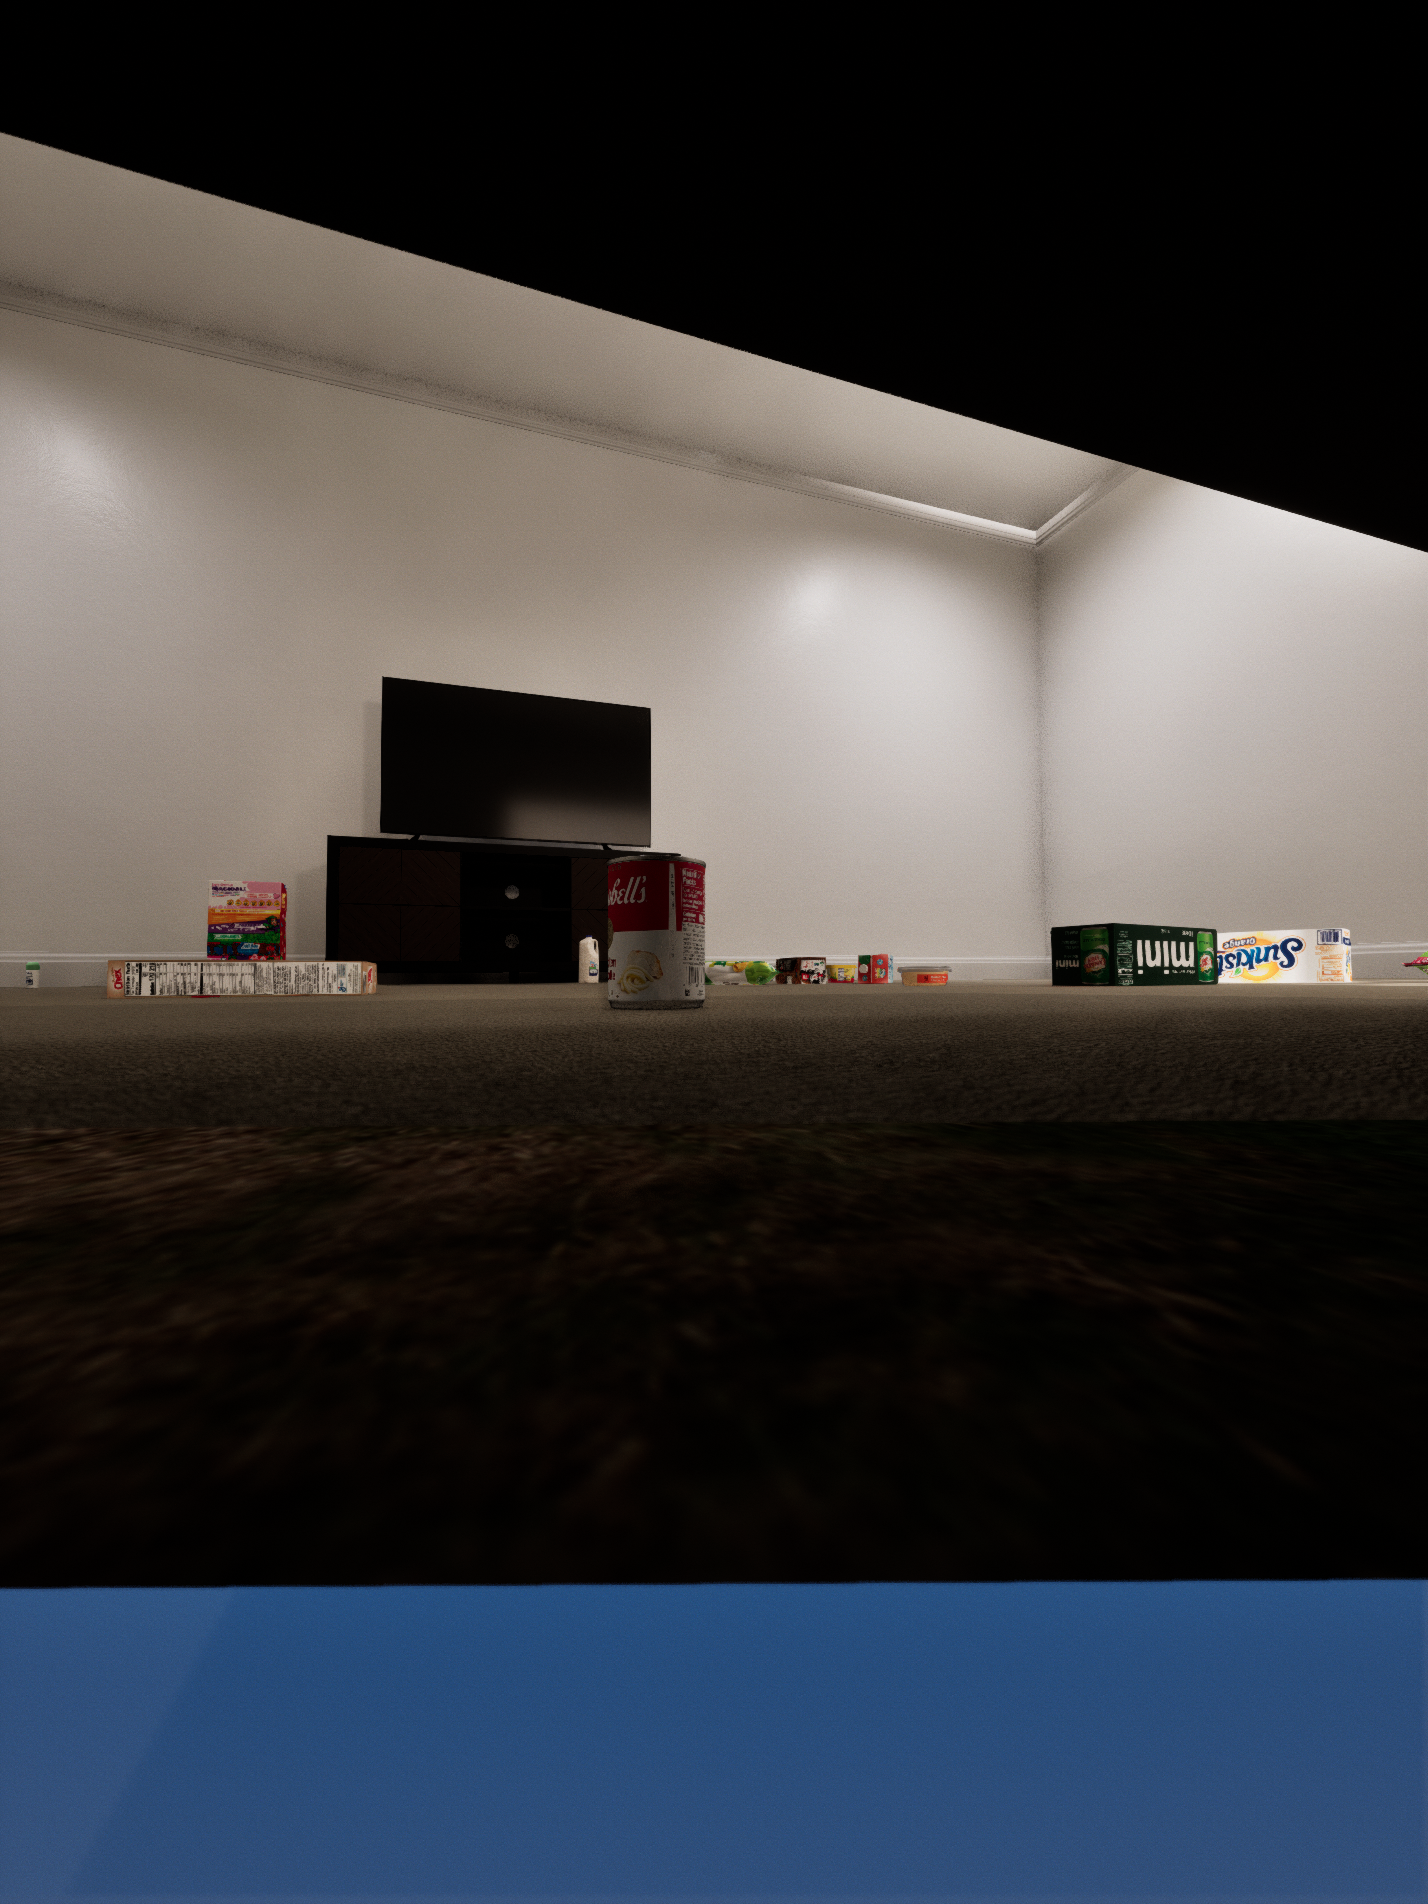cheerios: (775, 992, 898, 1268)
